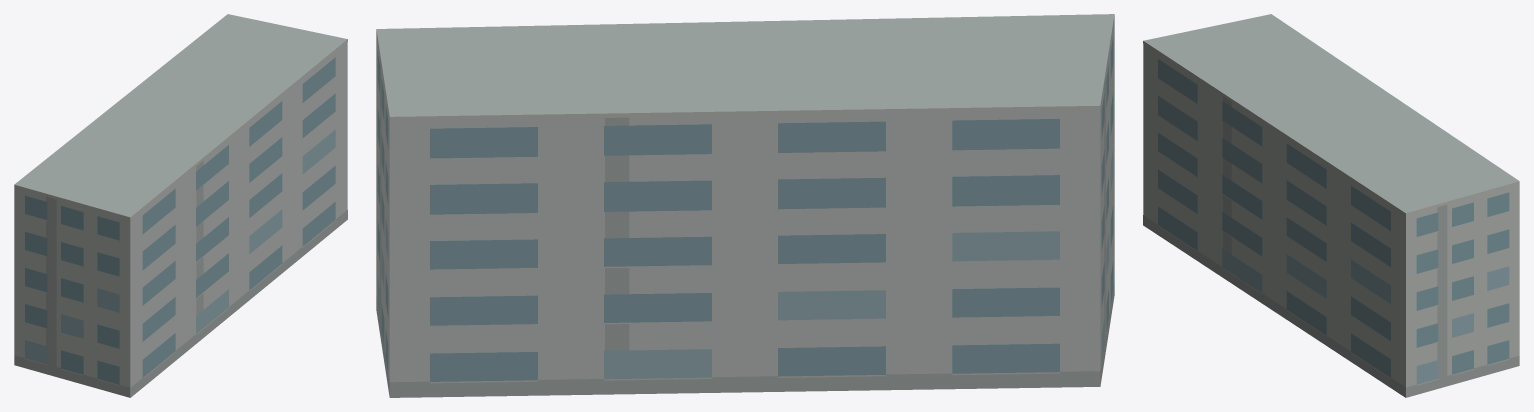
File: residential-4a7138c8-b98b-4ad5-949a-2f11794b7c1d.glb
The picture shows the model from 3 angles, left to right: view 1: azimuth 30°, elevation 25°; view 2: azimuth 150°, elevation 25°; view 3: azimuth 270°, elevation 25°; orthographic projection. The views are drawn at different scales.
Parts seen in each view (by area): view 1: residential-4a7138c8-b98b-4ad5-949a-2f11794b7c1d.tmp; view 2: residential-4a7138c8-b98b-4ad5-949a-2f11794b7c1d.tmp; view 3: residential-4a7138c8-b98b-4ad5-949a-2f11794b7c1d.tmp.
Part boxes in pixels (x1=…): residential-4a7138c8-b98b-4ad5-949a-2f11794b7c1d.tmp: x1=14, y1=14, x2=347, y2=397; residential-4a7138c8-b98b-4ad5-949a-2f11794b7c1d.tmp: x1=376, y1=14, x2=1114, y2=397; residential-4a7138c8-b98b-4ad5-949a-2f11794b7c1d.tmp: x1=1143, y1=14, x2=1519, y2=397.
Size of the model in its own units: 35.31 by 15.25 by 28.2.
